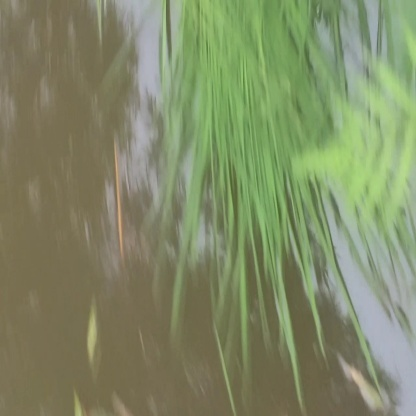grass: (176, 27, 313, 290)
